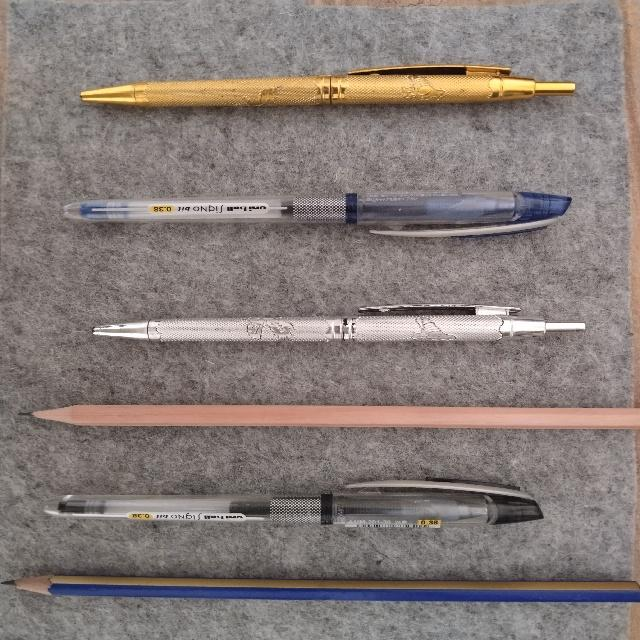pen: (46, 480, 542, 527), (64, 191, 570, 236)
pencil: (3, 576, 639, 601), (32, 405, 639, 428)
signature pen: (80, 65, 574, 106), (93, 304, 584, 341)
